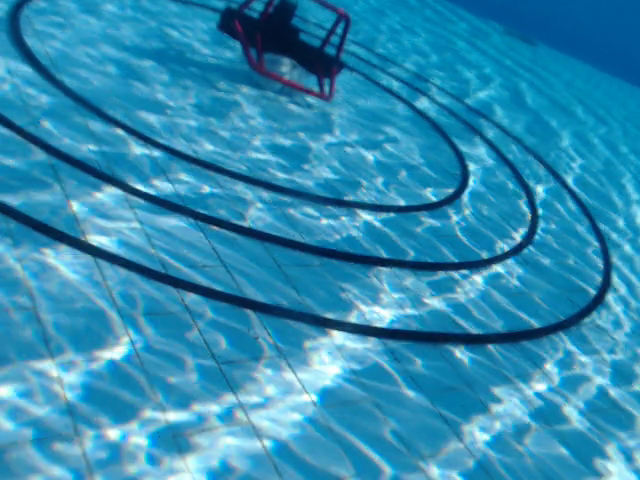submarine: (214, 1, 353, 104)
